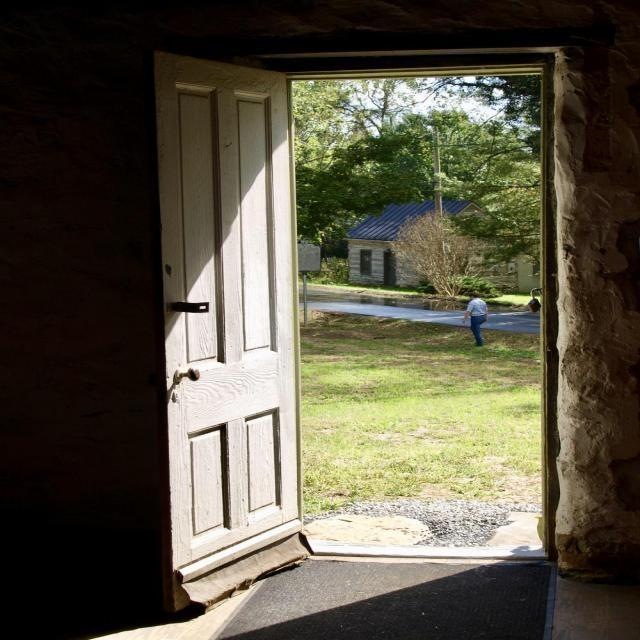door: (153, 50, 305, 592)
